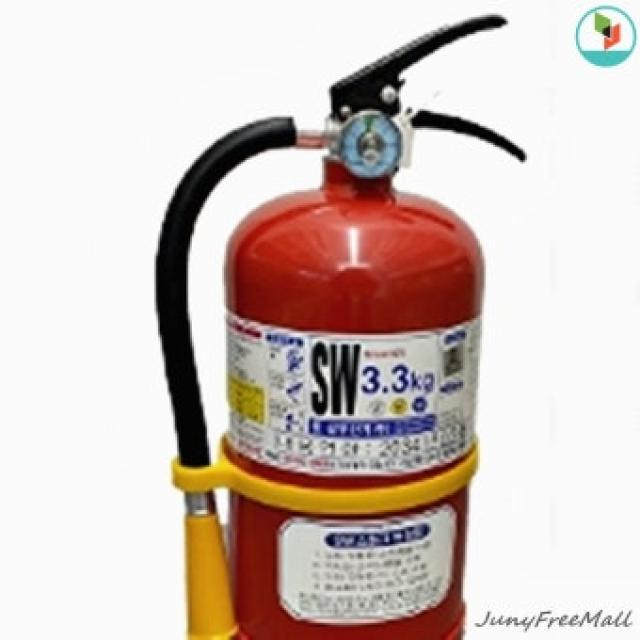pressure gauge: (339, 111, 401, 177)
